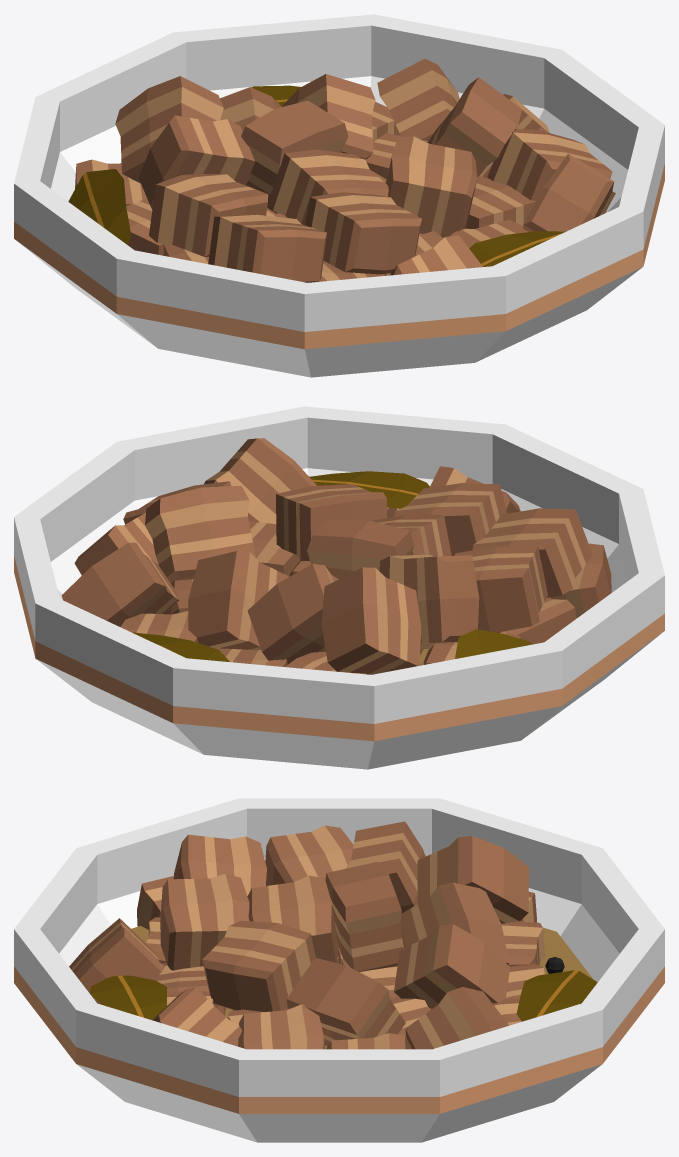
The model's file is FINAL_Adobong Puti.fbx.
3 renders of one model, top to bottom at view 1: azimuth 30°, elevation 25°; view 2: azimuth 150°, elevation 25°; view 3: azimuth 270°, elevation 25°, orthographic. The views are drawn at different scales.
Visible parts, largest first — view 1: Adobong Puti; view 2: Adobong Puti; view 3: Adobong Puti.
Boxes of the visible parts, left/top/right/bottom form: Adobong Puti: left=14, top=14, right=664, bottom=377; Adobong Puti: left=14, top=406, right=664, bottom=769; Adobong Puti: left=14, top=798, right=664, bottom=1142.
Size of the model in its own units: 109 by 30.57 by 115.
